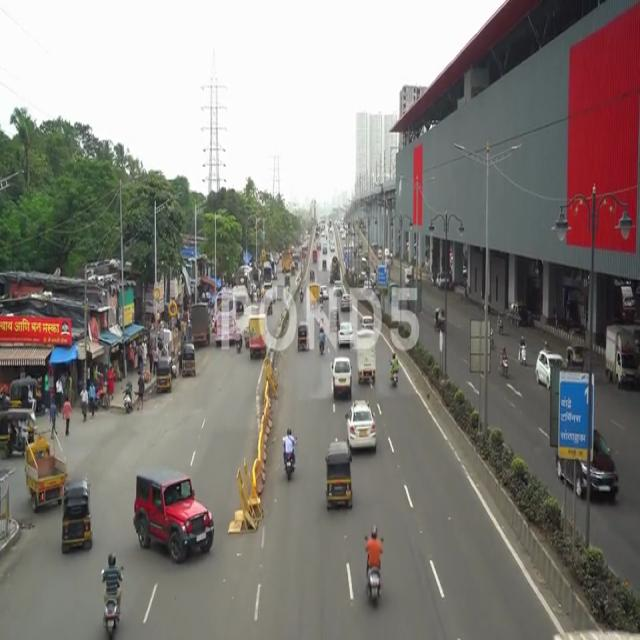car: (132, 469, 216, 562), (349, 404, 382, 446)
motorbike: (100, 549, 124, 632), (366, 528, 382, 606), (282, 425, 296, 484)
rikshaw: (326, 448, 353, 514)
truck: (25, 437, 59, 507)
